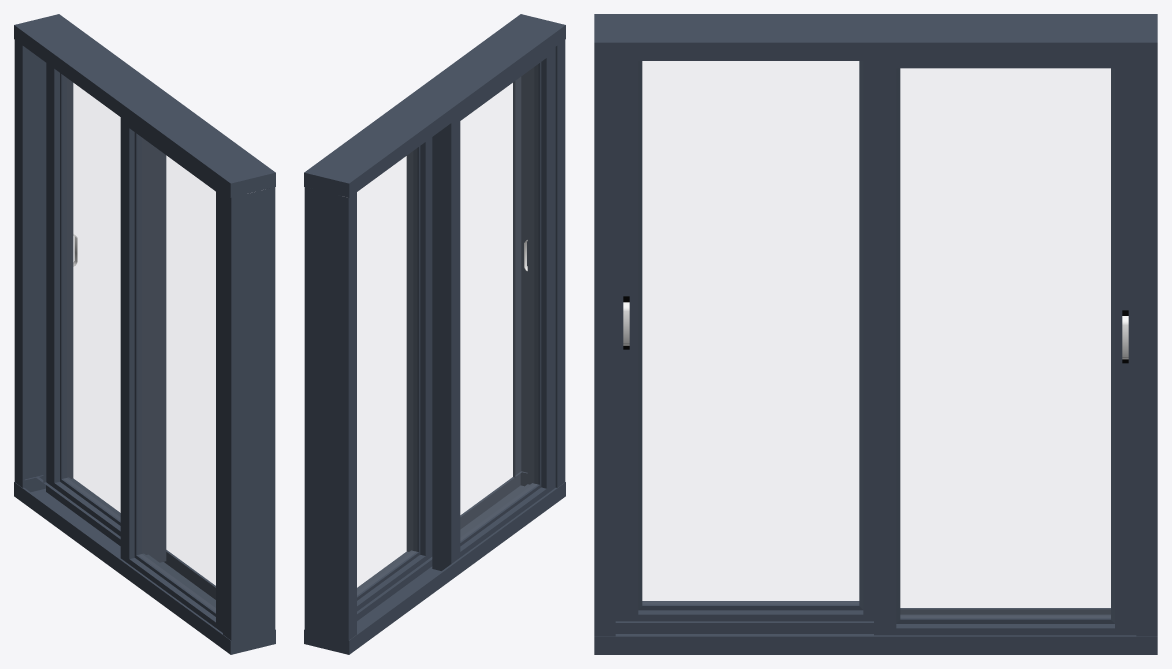
File: window_1.fbx
The picture shows the model from 3 angles, left to right: view 1: azimuth 30°, elevation 25°; view 2: azimuth 150°, elevation 25°; view 3: azimuth 270°, elevation 25°; orthographic projection. The views are drawn at different scales.
Parts seen in each view (by area): view 1: Plane.001; view 2: Plane.001; view 3: Plane.001.
Part boxes in pixels (x1,y1,x2,y2): Plane.001: (14, 14, 275, 654); Plane.001: (304, 14, 565, 654); Plane.001: (594, 14, 1157, 654).
Size of the model in its own units: 16.92 by 152 by 127.
